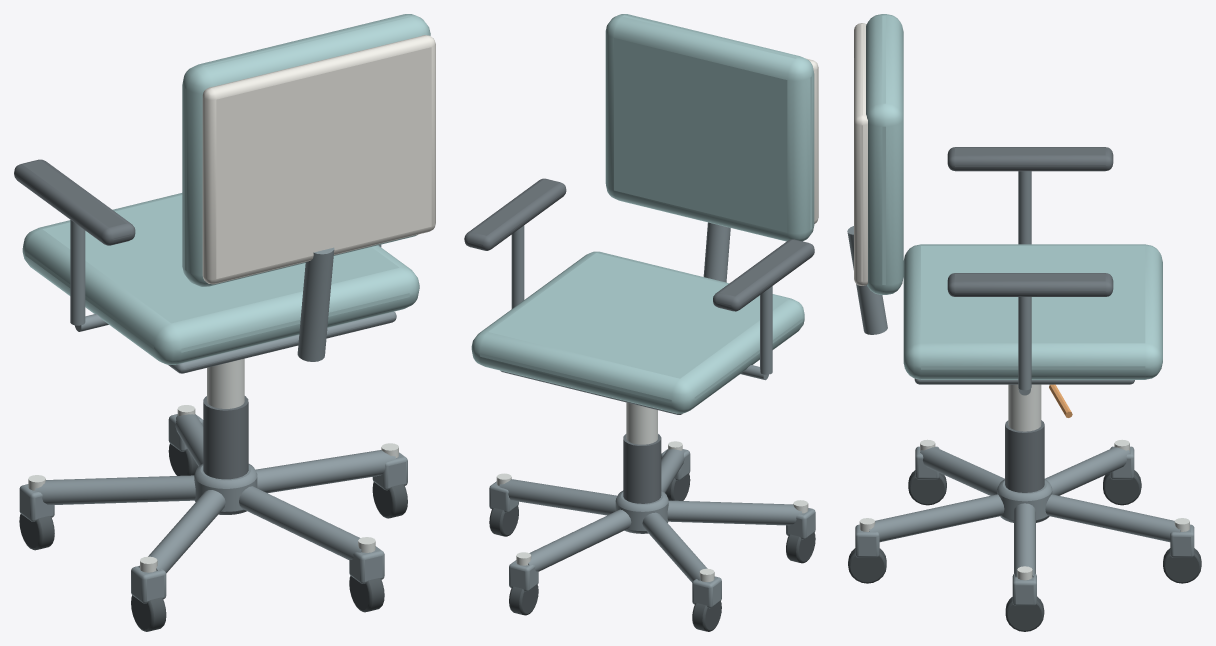
Rendered from crew_chair.glb.
3 renders of one model, left to right at view 1: azimuth 30°, elevation 25°; view 2: azimuth 150°, elevation 25°; view 3: azimuth 270°, elevation 25°, orthographic. The views are drawn at different scales.
Parts seen in each view (by area): view 1: back_shell_warm_shell, seat_teal_soft, base_dark_alloy, back_teal_soft, arm_rests_dark_alloy, column_boot_graphite, back_post_dark_alloy, seat_pan_dark_alloy, column_satin_steel; view 2: back_teal_soft, seat_teal_soft, base_dark_alloy, arm_rests_dark_alloy, column_boot_graphite, back_post_dark_alloy, column_satin_steel, back_shell_warm_shell; view 3: seat_teal_soft, base_dark_alloy, arm_rests_dark_alloy, back_teal_soft, back_shell_warm_shell, column_boot_graphite, column_satin_steel, back_post_dark_alloy, seat_pan_dark_alloy.
Part boxes in pixels (bbox=[...]): back_shell_warm_shell: bbox=[202, 35, 435, 284]; seat_teal_soft: bbox=[22, 193, 419, 364]; base_dark_alloy: bbox=[19, 405, 407, 631]; back_teal_soft: bbox=[182, 14, 430, 286]; arm_rests_dark_alloy: bbox=[14, 159, 381, 331]; column_boot_graphite: bbox=[203, 396, 248, 479]; back_post_dark_alloy: bbox=[297, 247, 334, 361]; seat_pan_dark_alloy: bbox=[168, 311, 396, 373]; column_satin_steel: bbox=[207, 358, 244, 408]; back_teal_soft: bbox=[605, 14, 814, 241]; seat_teal_soft: bbox=[471, 251, 804, 413]; base_dark_alloy: bbox=[489, 441, 815, 631]; arm_rests_dark_alloy: bbox=[464, 178, 814, 380]; column_boot_graphite: bbox=[623, 434, 661, 503]; back_post_dark_alloy: bbox=[703, 222, 730, 282]; column_satin_steel: bbox=[626, 402, 657, 444]; back_shell_warm_shell: bbox=[805, 58, 818, 223]; seat_teal_soft: bbox=[903, 244, 1162, 379]; base_dark_alloy: bbox=[848, 439, 1201, 631]; arm_rests_dark_alloy: bbox=[947, 147, 1113, 395]; back_teal_soft: bbox=[866, 14, 903, 294]; back_shell_warm_shell: bbox=[854, 23, 867, 285]; column_boot_graphite: bbox=[1005, 420, 1044, 492]; column_satin_steel: bbox=[1008, 384, 1041, 431]; back_post_dark_alloy: bbox=[847, 226, 887, 334]; seat_pan_dark_alloy: bbox=[914, 378, 1134, 384].
Size of the model in its own units: 0.622 by 1 by 0.6421.
